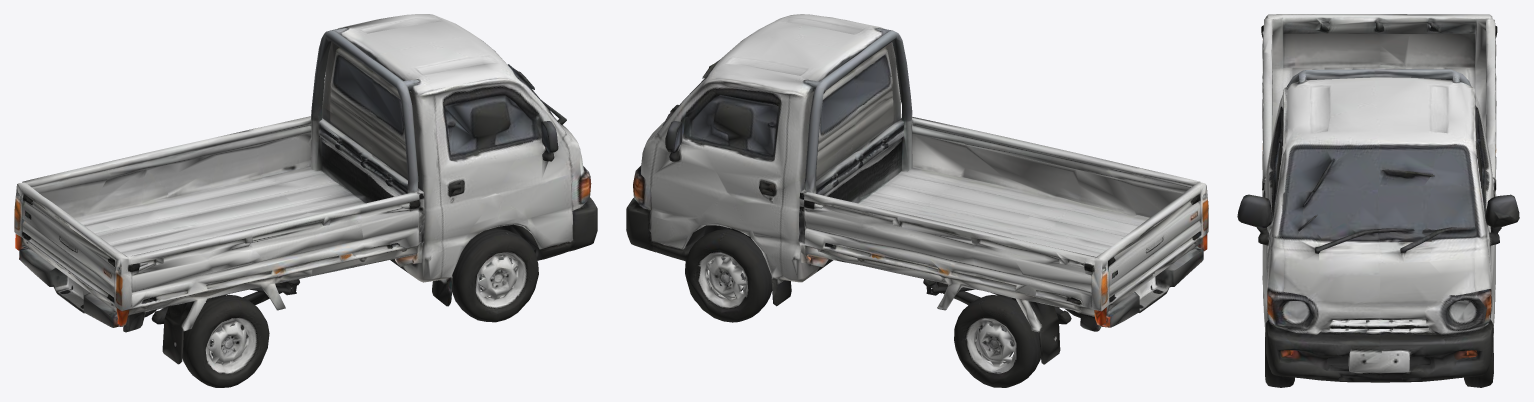
File: keitruck.glb
The picture shows the model from 3 angles, left to right: view 1: azimuth 30°, elevation 25°; view 2: azimuth 150°, elevation 25°; view 3: azimuth 270°, elevation 25°; orthographic projection. The views are drawn at different scales.
Parts seen in each view (by area): view 1: tripo_node_2263a395-4962-4b13-885d-05197ae09787; view 2: tripo_node_2263a395-4962-4b13-885d-05197ae09787; view 3: tripo_node_2263a395-4962-4b13-885d-05197ae09787.
Part boxes in pixels (x1,y1,x2,y2): tripo_node_2263a395-4962-4b13-885d-05197ae09787: (14,14,597,387); tripo_node_2263a395-4962-4b13-885d-05197ae09787: (626,14,1208,387); tripo_node_2263a395-4962-4b13-885d-05197ae09787: (1237,14,1519,387).
Size of the model in its own units: 0.9995 by 0.4853 by 0.459.
Materials: 1 (1 with a texture image).
